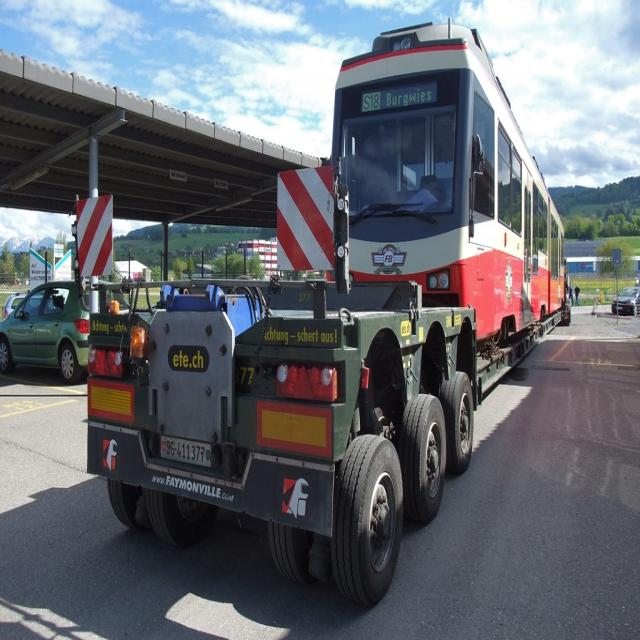other: (3, 270, 87, 390), (4, 290, 53, 318), (612, 280, 640, 319)
